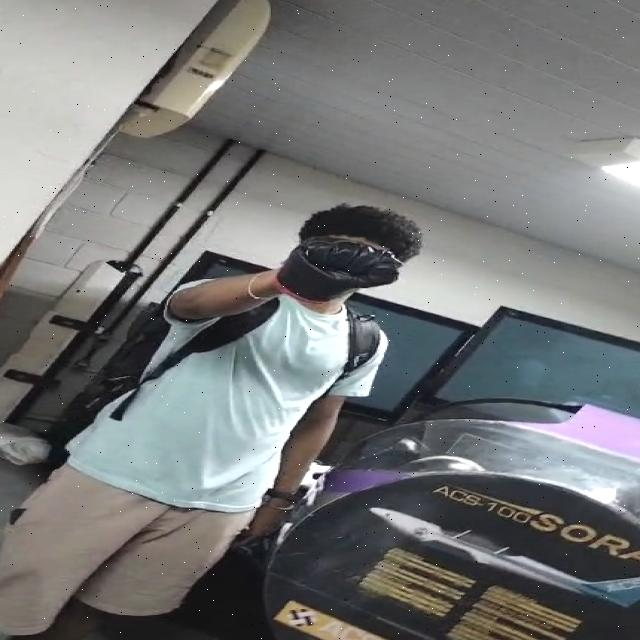Gloves: (276, 230, 406, 316)
